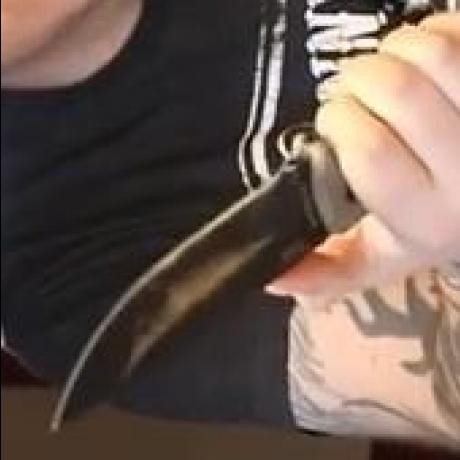1: (0, 0, 460, 446)
weapon: (48, 154, 340, 440)
